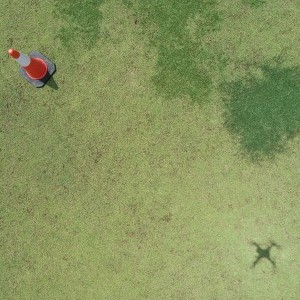traffic cone: (8, 48, 56, 88)
